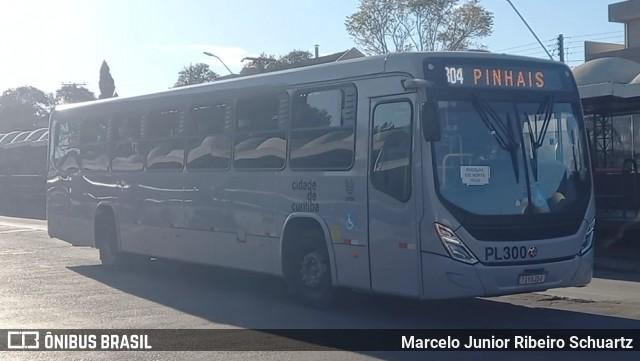PINHAIS: (466, 63, 550, 91)
